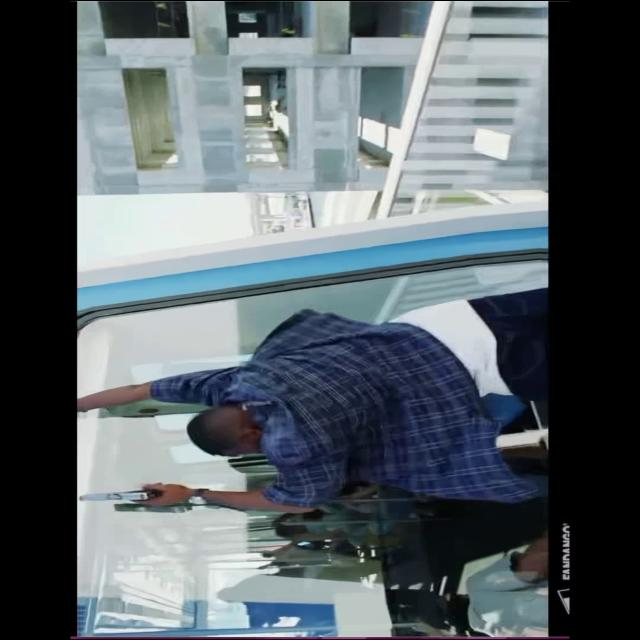weapons: (77, 474, 192, 512)
